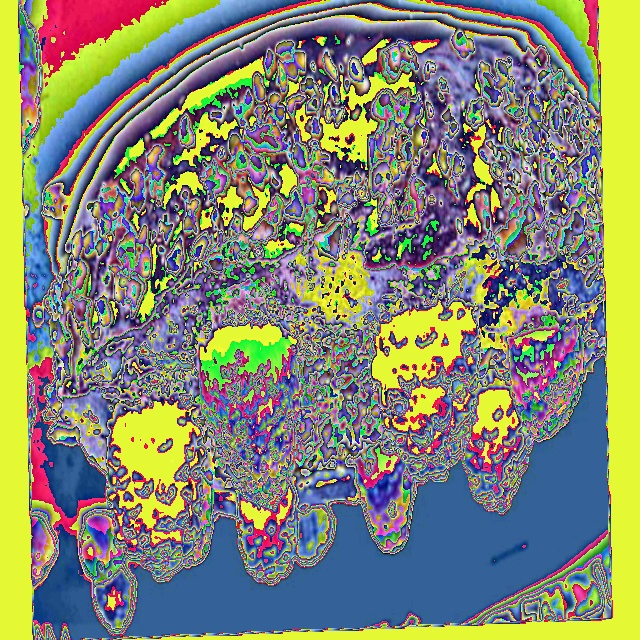background: (42, 29, 604, 636), (27, 75, 58, 591)
